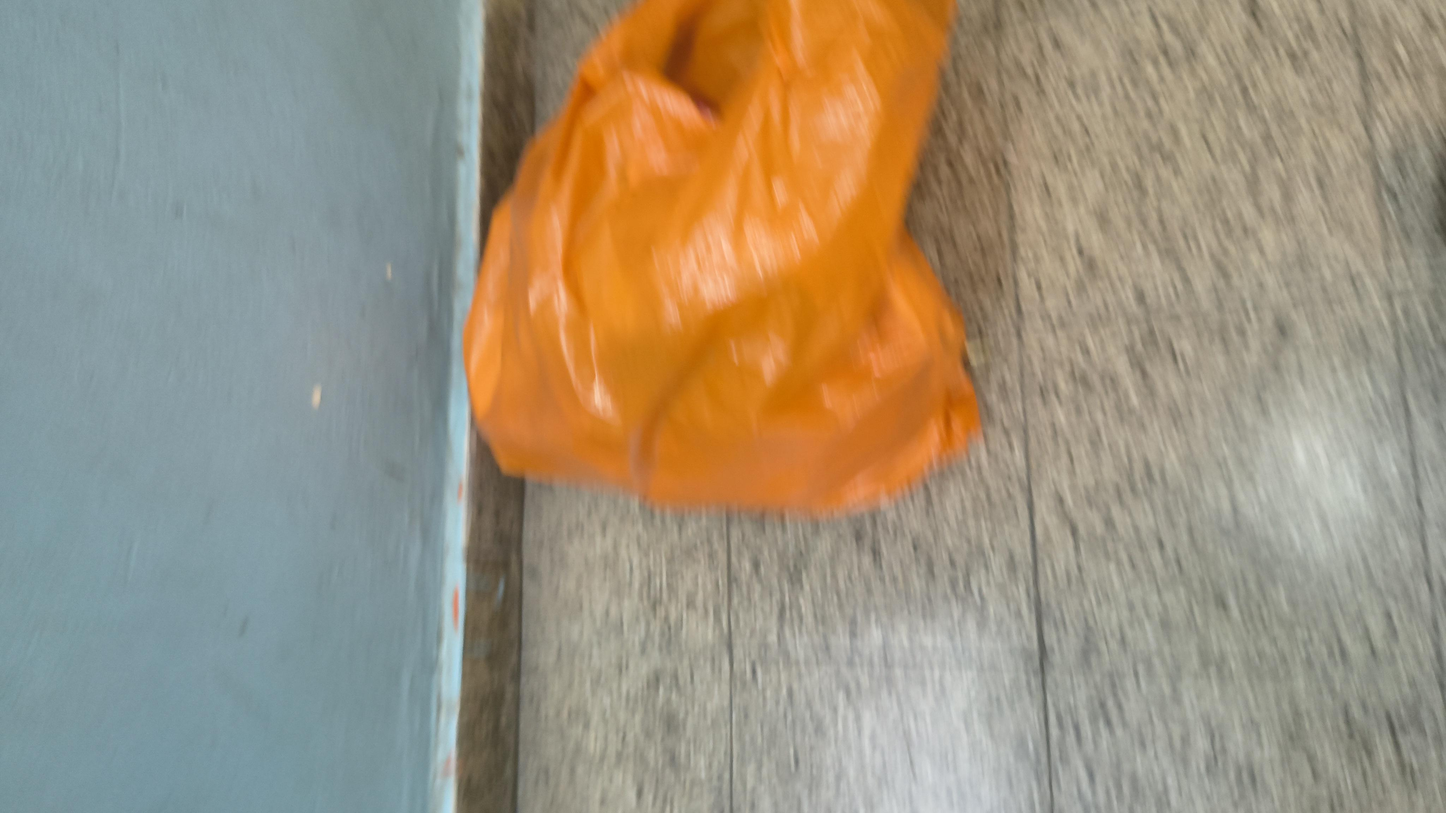Garbage: (477, 222, 1446, 599)
